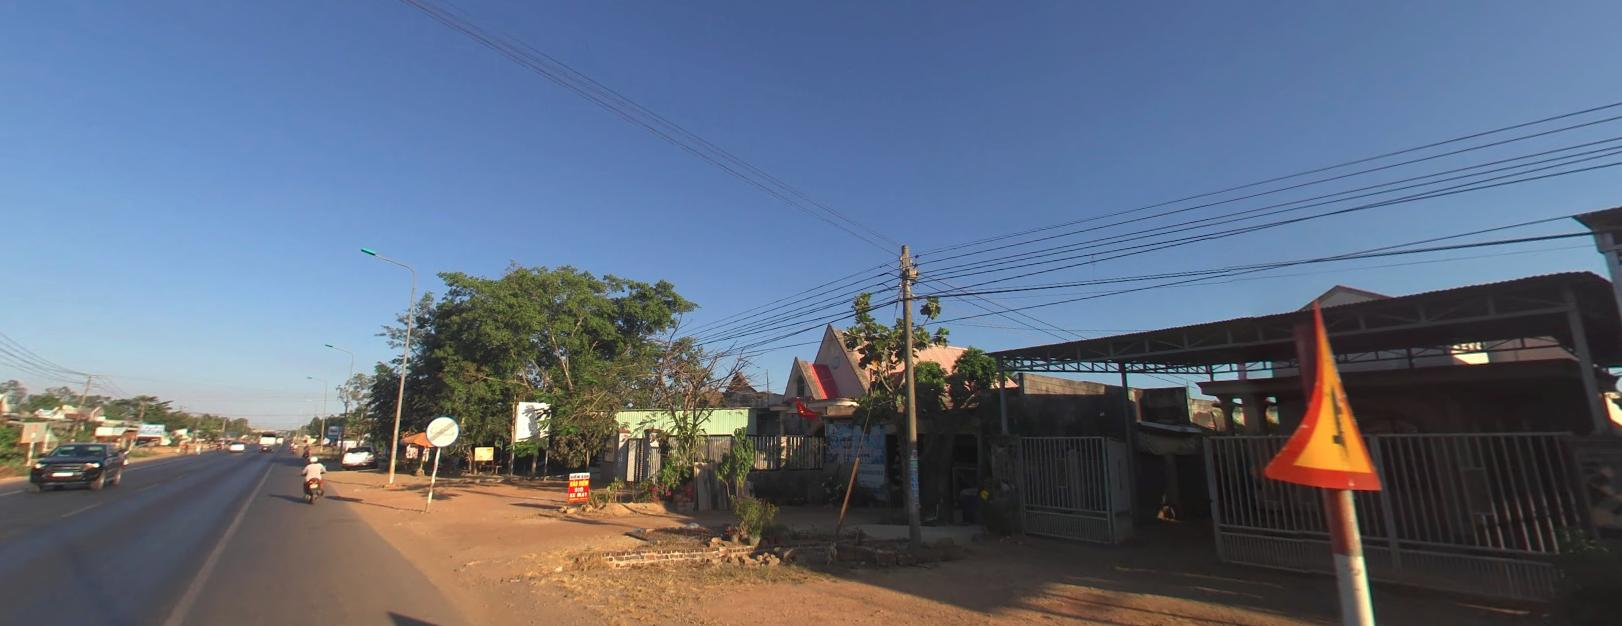Cam con lai: (426, 415, 459, 445)
Nguy hiem: (1257, 296, 1382, 491)
